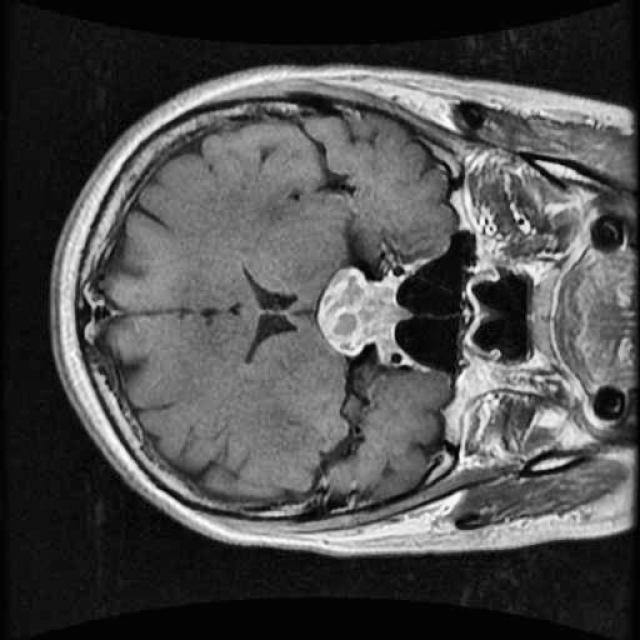Tumor: (310, 255, 412, 362)
